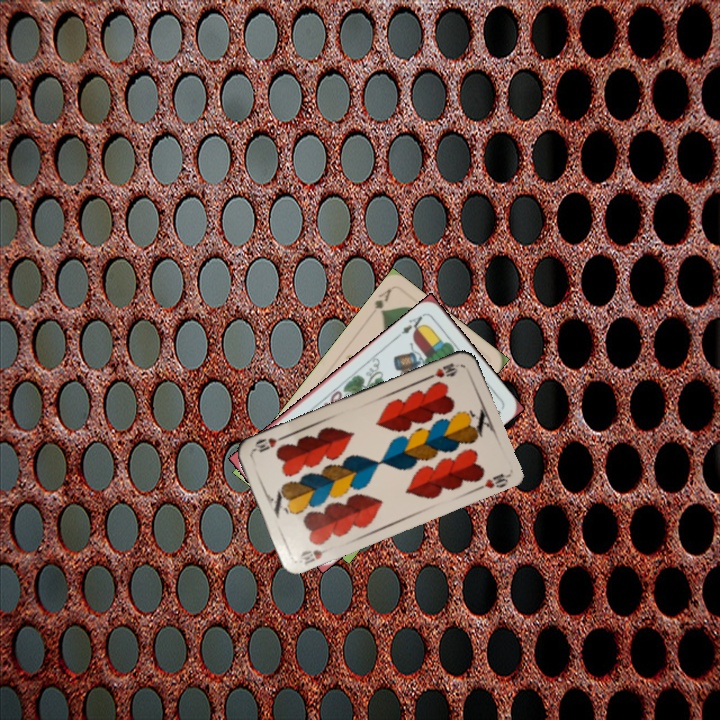EA: (393, 310, 429, 340)
GA: (370, 285, 394, 317)
H10: (295, 543, 334, 567), (423, 359, 460, 382)
